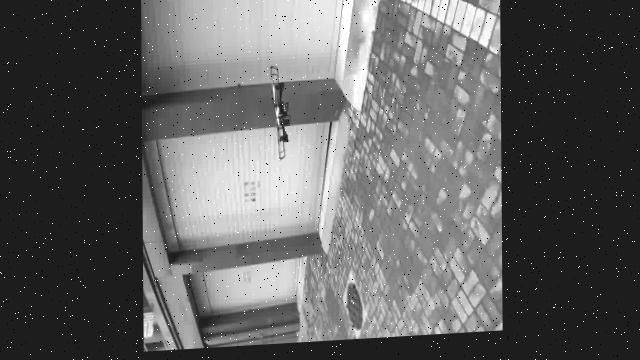drone: (257, 65, 306, 183)
